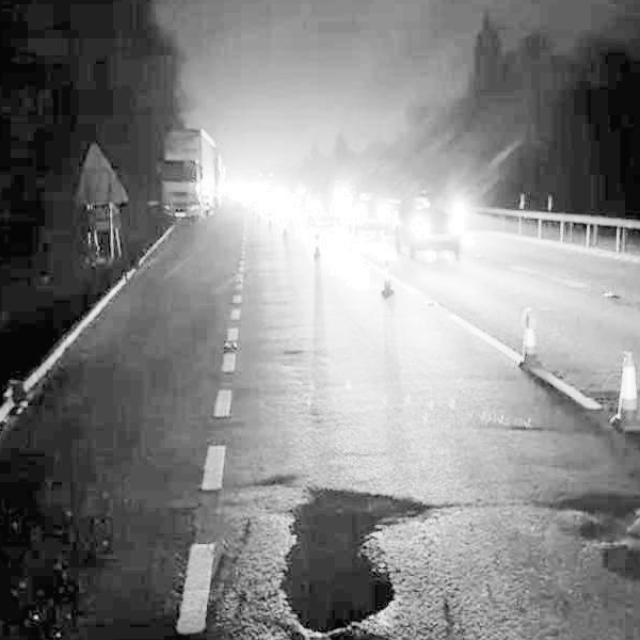Pothole: (271, 473, 420, 640)
